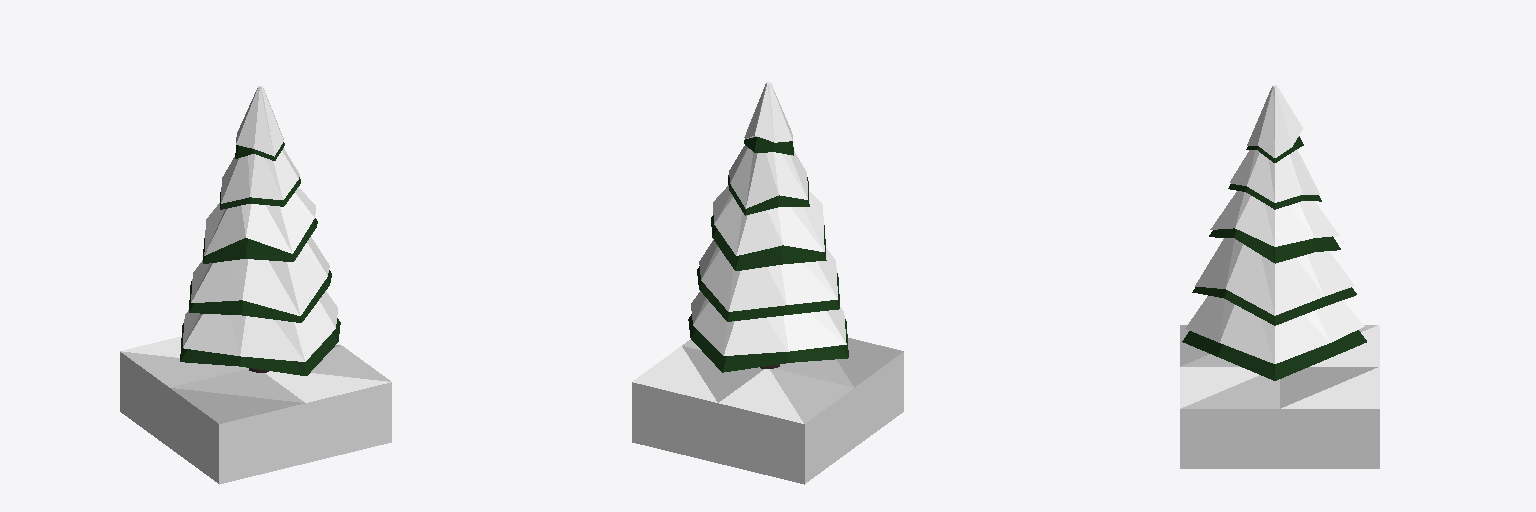
Rendered from Tile_Tree_1.obj.
3 views of the same model, side by side, from view 1: azimuth 30°, elevation 25°; view 2: azimuth 150°, elevation 25°; view 3: azimuth 270°, elevation 25° (orthographic).
Visible parts, largest first — view 1: Cube_Cube.002, Cylinder.001_Cylinder.002, Cylinder.000_Cylinder.005; view 2: Cube_Cube.002, Cylinder.001_Cylinder.002, Cylinder.000_Cylinder.005; view 3: Cylinder.001_Cylinder.002, Cube_Cube.002, Cylinder.000_Cylinder.005.
Part boxes in pixels (x1,y1,x2,y2): Cube_Cube.002: (120, 336, 391, 484); Cylinder.001_Cylinder.002: (183, 86, 337, 361); Cylinder.000_Cylinder.005: (180, 142, 340, 375); Cube_Cube.002: (632, 338, 903, 484); Cylinder.001_Cylinder.002: (691, 82, 846, 355); Cylinder.000_Cylinder.005: (688, 137, 848, 372); Cylinder.001_Cylinder.002: (1185, 85, 1364, 363); Cube_Cube.002: (1180, 325, 1379, 468); Cylinder.000_Cylinder.005: (1182, 136, 1366, 380).
Bounding box in the file's own units: 6 × 11.35 × 6.